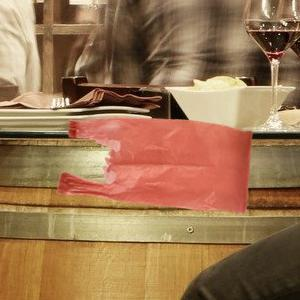plastic_bag: (57, 115, 255, 219)
